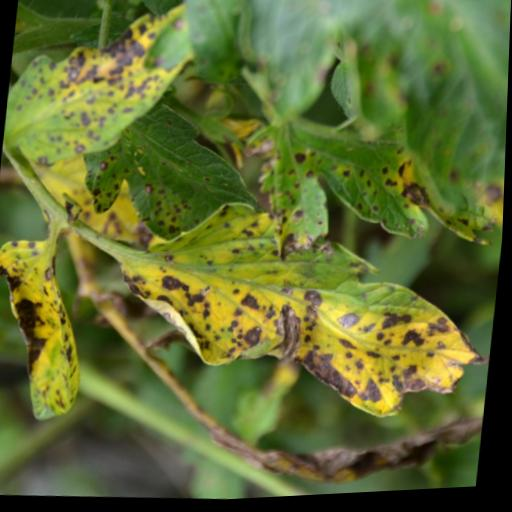Septoria: (93, 191, 495, 464), (237, 107, 505, 265), (68, 96, 274, 258), (6, 0, 196, 168), (0, 224, 99, 428)
